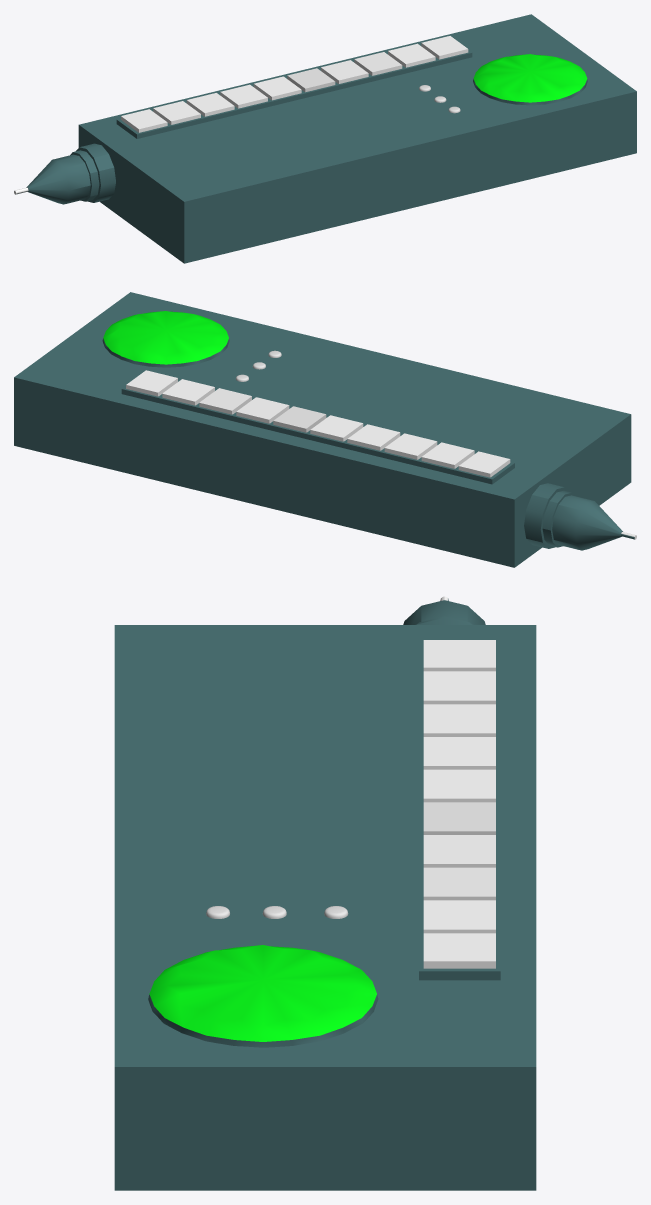
Rendered from meterSeperateIndicators.fbx.
The picture shows the model from 3 angles, top to bottom: view 1: azimuth 30°, elevation 25°; view 2: azimuth 150°, elevation 25°; view 3: azimuth 270°, elevation 25°; orthographic projection. The views are drawn at different scales.
Visible parts, largest first — view 1: body1, circle, b_5, b_6, b_3, b_8, b_9, b_4, b_2, b_7, b_10, b_1; view 2: body1, circle, b_7, b_3, b_4, b_6, b_2, b_5, b_9, b_8, b_10, b_1; view 3: body1, circle, b_10, b_2, b_9, b_5, b_8, b_3, b_4, b_6, b_7, b_1.
Part boxes in pixels (x1,y1,x2,y2): body1: (14,14,636,263); circle: (473,54,587,105); b_5: (253,76,301,100); b_6: (287,68,335,92); b_3: (186,93,234,116); b_8: (354,52,402,75); b_9: (388,43,435,67); b_4: (220,84,267,108); b_2: (153,101,200,124); b_7: (321,60,368,83); b_10: (421,36,468,59); b_1: (121,109,167,132); body1: (14,292,636,567); circle: (102,311,229,367); b_7: (236,397,289,423); b_3: (384,433,437,459); b_4: (347,424,400,450); b_6: (273,406,326,432); b_2: (421,442,474,468); b_5: (310,415,363,441); b_9: (162,379,214,405); b_8: (199,388,251,414); b_10: (126,370,177,396); b_1: (458,451,510,477); body1: (114,596,536,1190); circle: (148,945,378,1047); b_10: (423,933,495,968); b_2: (423,671,495,704); b_9: (423,900,495,933); b_5: (423,769,495,802); b_8: (423,867,495,900); b_3: (423,704,495,736); b_4: (423,737,495,769); b_6: (423,802,495,834); b_7: (423,835,495,867); b_1: (423,640,495,671).
Size of the model in its own units: 548 by 69.42 by 186.
